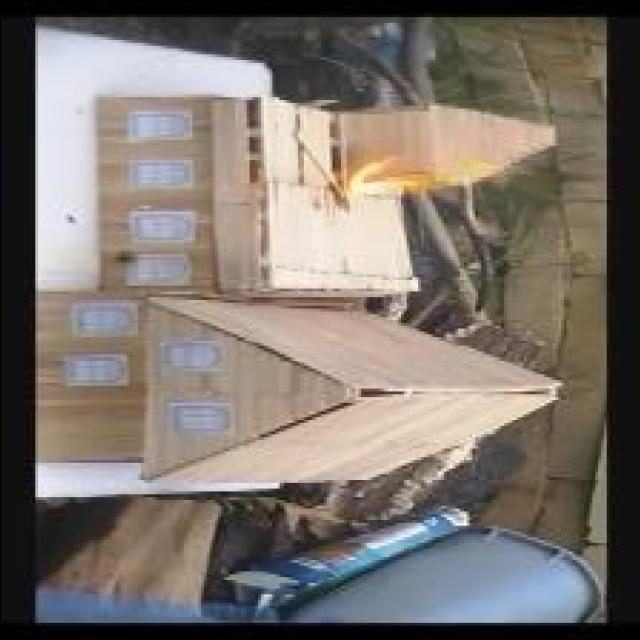Fire: (348, 158, 502, 196)
